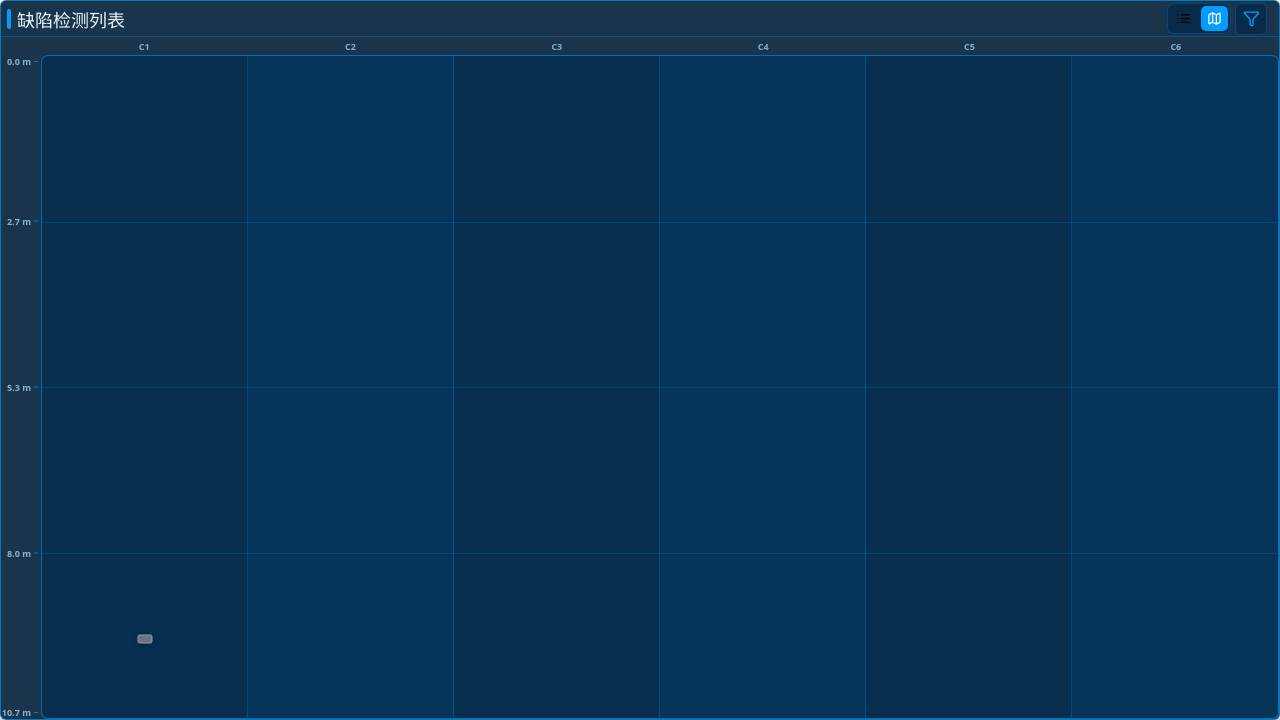
it: DefectDetectionList algorithm defects › shows an explicit pending state instead of falling back to a source frame or uncropped inspection frame
Click the button titled "列表". click: point(1184, 18)
box: [1170,6,1197,31]
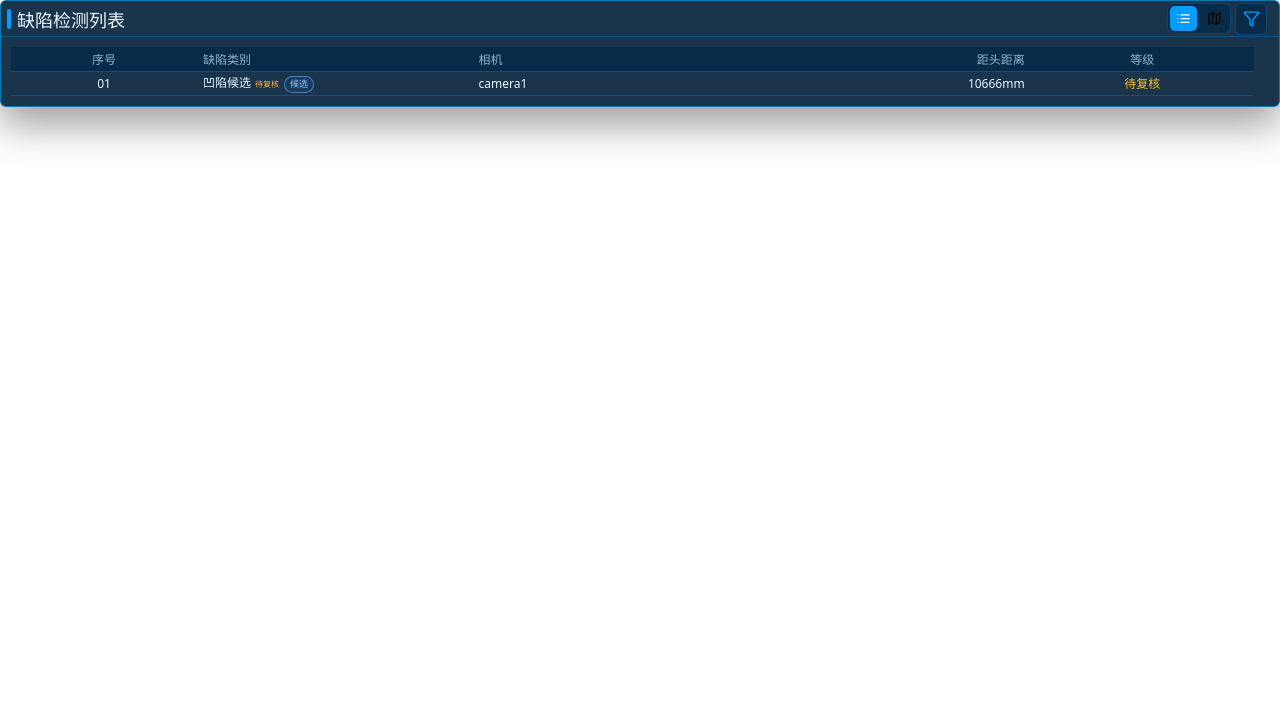
Hover over the row named "凹陷候选，camera1" at point(632, 83), box [11,71,1254,95]
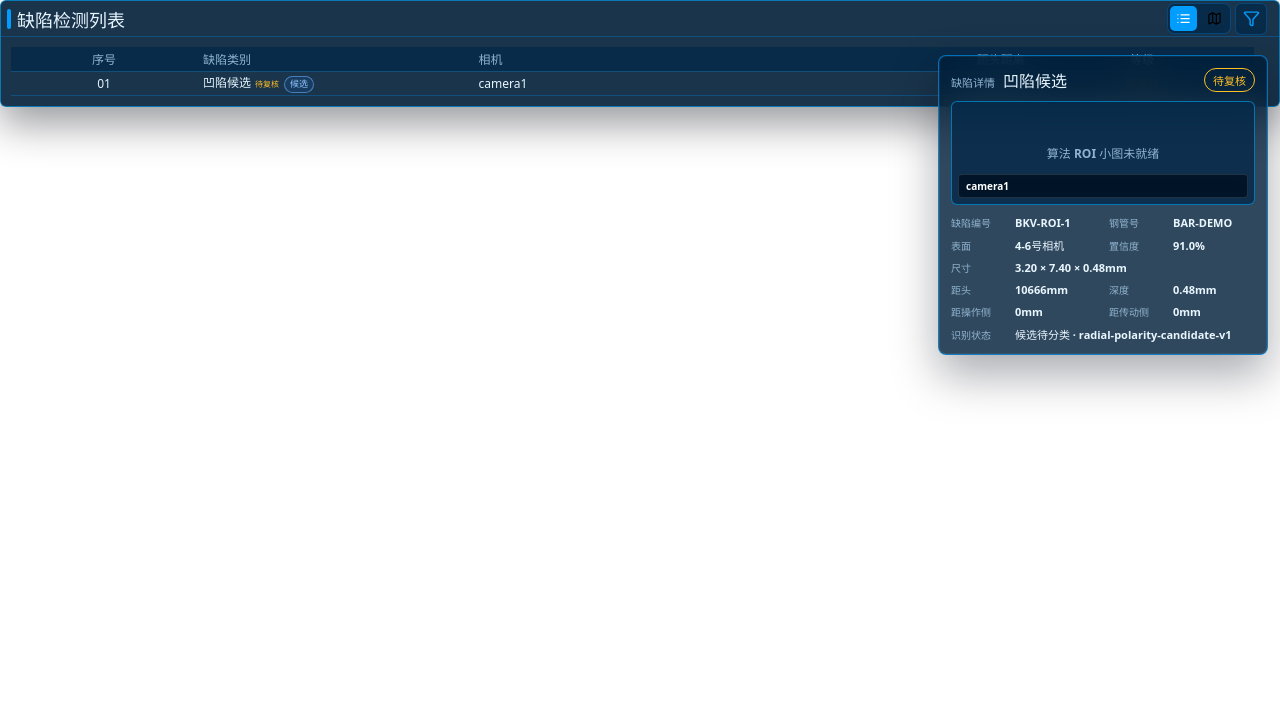
Expected: the tooltip does not show "检测记录原始帧", [938,55,1268,355]
Now the tooltip shows "算法 ROI 小图未就绪", box [1047,145,1159,162]
